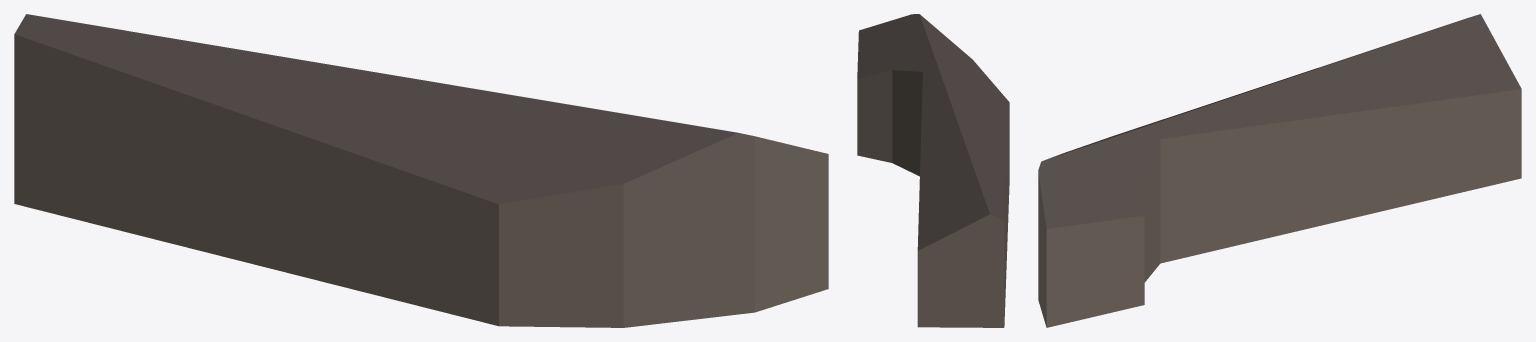
The picture shows the model from 3 angles, left to right: view 1: azimuth 30°, elevation 25°; view 2: azimuth 150°, elevation 25°; view 3: azimuth 270°, elevation 25°; orthographic projection. The views are drawn at different scales.
Visible parts, largest first — view 1: HP-w859088475; view 2: HP-w859088475; view 3: HP-w859088475.
Boxes of the visible parts, x1,y1,x2,y2 form: HP-w859088475: (14, 14, 828, 327); HP-w859088475: (857, 14, 1009, 327); HP-w859088475: (1038, 14, 1521, 327).
Bounding box in the file's own units: 26.96 × 8.94 × 29.44.
